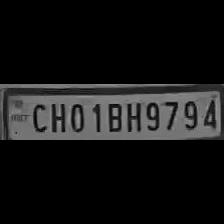0: (66, 100, 86, 134)
1: (86, 100, 104, 134)
4: (200, 96, 218, 130)
7: (160, 97, 178, 132)
9: (142, 98, 160, 132), (180, 97, 198, 130)
B: (104, 99, 124, 133)
C: (28, 100, 48, 132)
H: (48, 100, 68, 134), (124, 99, 142, 133)
